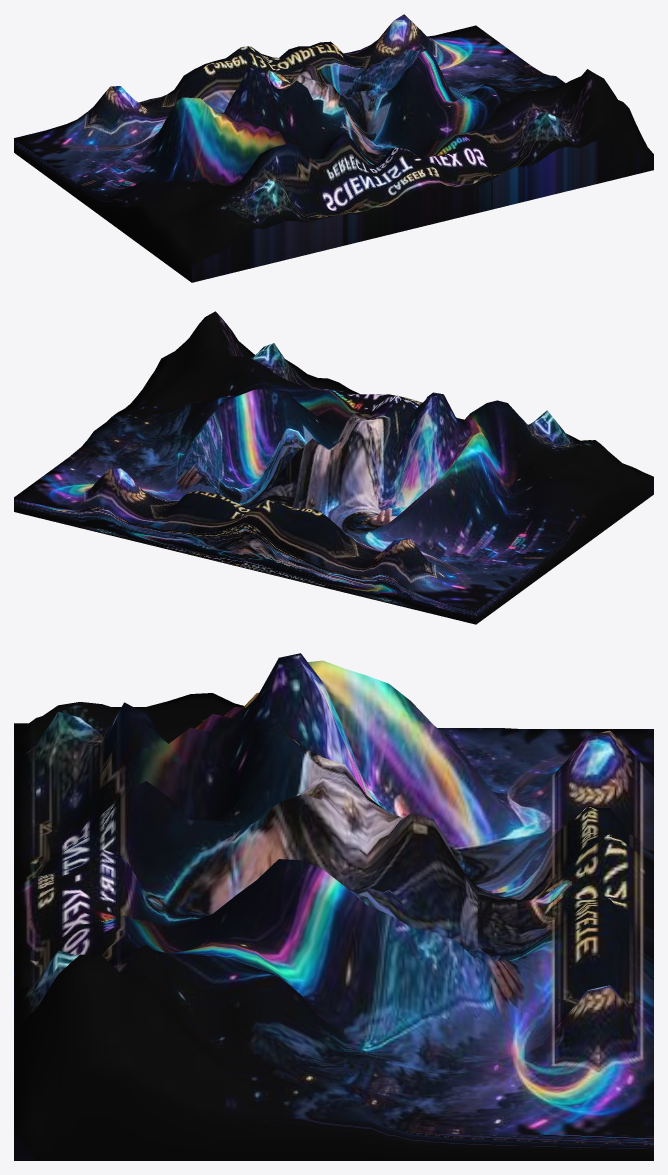
The model's file is CAREER_13_VFX_05_Perfect.glb.
3 views of the same model, one above another, from view 1: azimuth 30°, elevation 25°; view 2: azimuth 150°, elevation 25°; view 3: azimuth 270°, elevation 25° (orthographic). The views are drawn at different scales.
Visible parts, largest first — view 1: CAREER_13_VFX_05_Perfect; view 2: CAREER_13_VFX_05_Perfect; view 3: CAREER_13_VFX_05_Perfect.
Part boxes in pixels (x1,y1,x2,y2): CAREER_13_VFX_05_Perfect: (14, 14, 653, 282); CAREER_13_VFX_05_Perfect: (14, 311, 653, 624); CAREER_13_VFX_05_Perfect: (14, 653, 653, 1160).
Bounding box in the file's own units: 2 × 0.51 × 1.33.
Materials: 1 (1 with a texture image).
